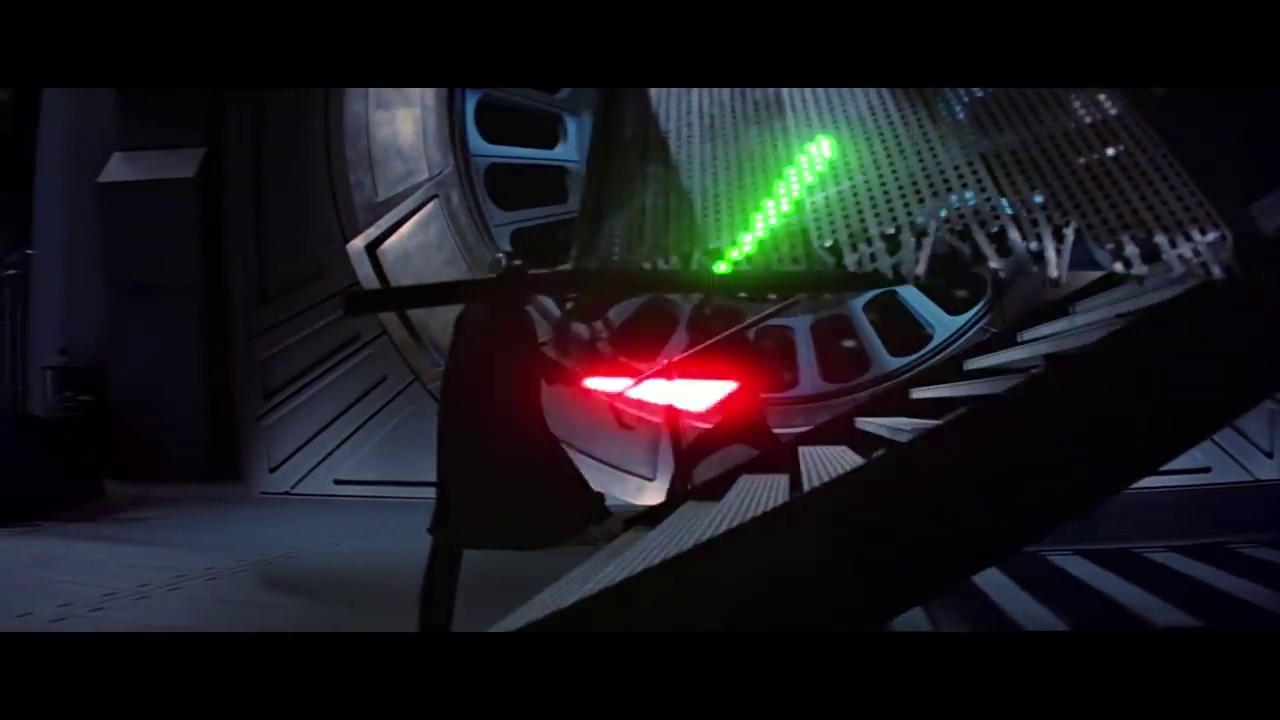lightsaber: (567, 356, 744, 429)
